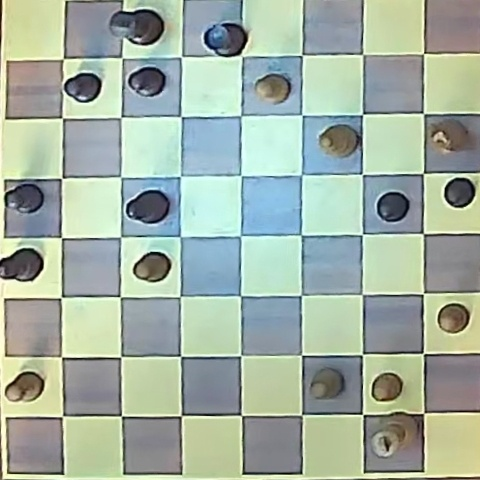black-bishop: (125, 190, 169, 225), (0, 248, 43, 282)
black-king: (110, 8, 163, 46)
black-pawn: (4, 183, 44, 214), (127, 66, 166, 96), (64, 72, 102, 102), (376, 191, 410, 222), (444, 177, 475, 208)
black-rook: (203, 22, 247, 57)
white-bishop: (319, 125, 359, 158)
white-king: (370, 415, 416, 459)
white-knight: (428, 120, 469, 154)
white-pawn: (5, 372, 44, 403), (133, 252, 171, 283), (255, 74, 290, 104), (310, 368, 342, 400), (438, 304, 469, 333), (372, 373, 403, 401)
